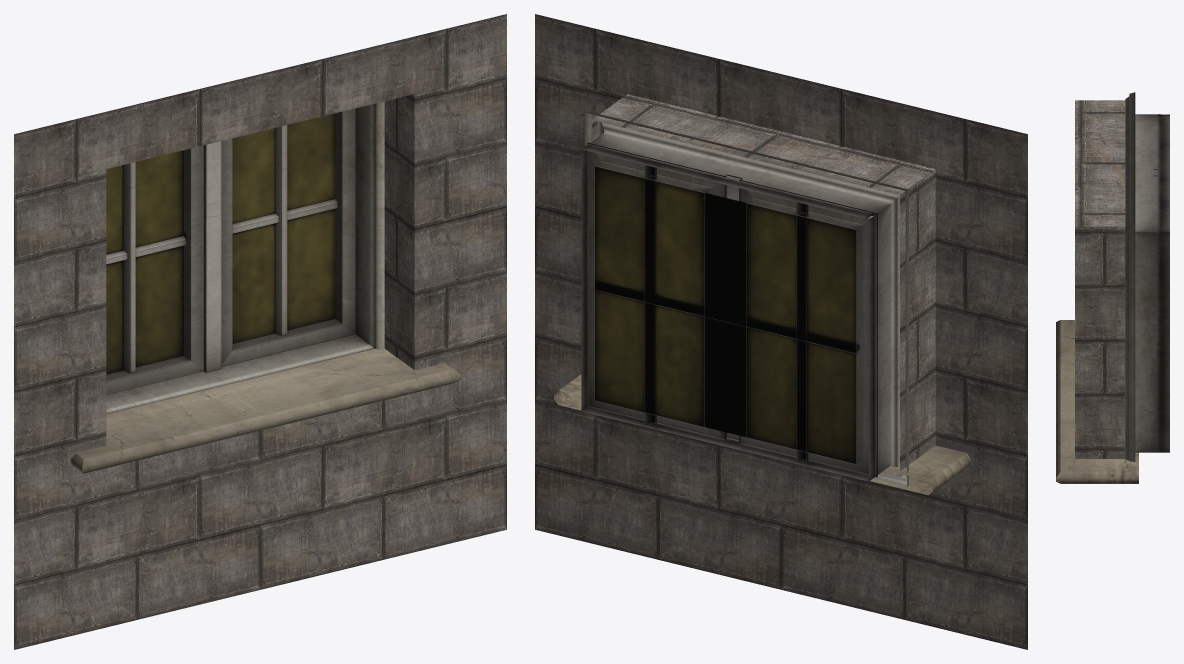
Rendered from exterior_walls_bare_window.DAE.
3 renders of one model, left to right at view 1: azimuth 30°, elevation 25°; view 2: azimuth 150°, elevation 25°; view 3: azimuth 270°, elevation 25°, orthographic. The views are drawn at different scales.
Parts seen in each view (by area): view 1: Box008, mansionbase_wall_window1, mansionbase_wall_windowglass; view 2: Box008, mansionbase_wall_windowglass, mansionbase_wall_window1; view 3: mansionbase_wall_window1, Box008.
Part boxes in pixels (bbox=[...]): Box008: bbox=[14, 14, 506, 649]; mansionbase_wall_window1: bbox=[71, 101, 461, 473]; mansionbase_wall_windowglass: bbox=[106, 113, 335, 374]; Box008: bbox=[535, 14, 1027, 649]; mansionbase_wall_windowglass: bbox=[595, 166, 856, 463]; mansionbase_wall_window1: bbox=[554, 111, 970, 495]; mansionbase_wall_window1: bbox=[1056, 92, 1169, 483]; Box008: bbox=[1075, 100, 1125, 458].
Bounding box in the file's own units: 4 × 4 × 0.9507.
